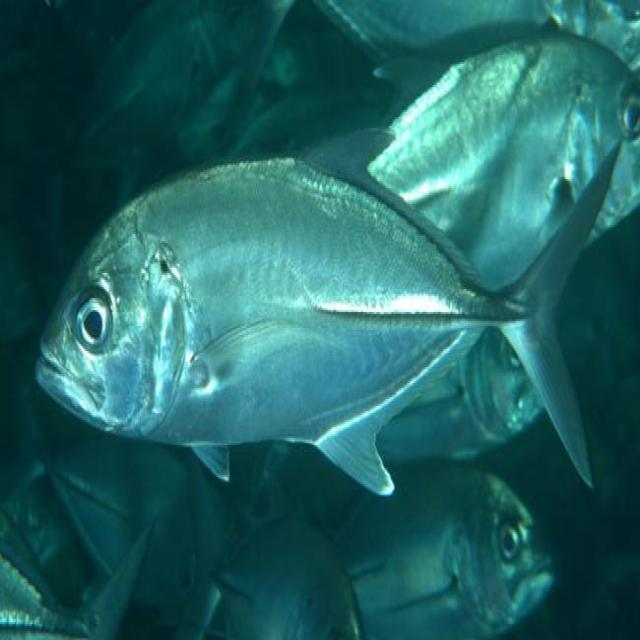ikan: (32, 135, 624, 496)
